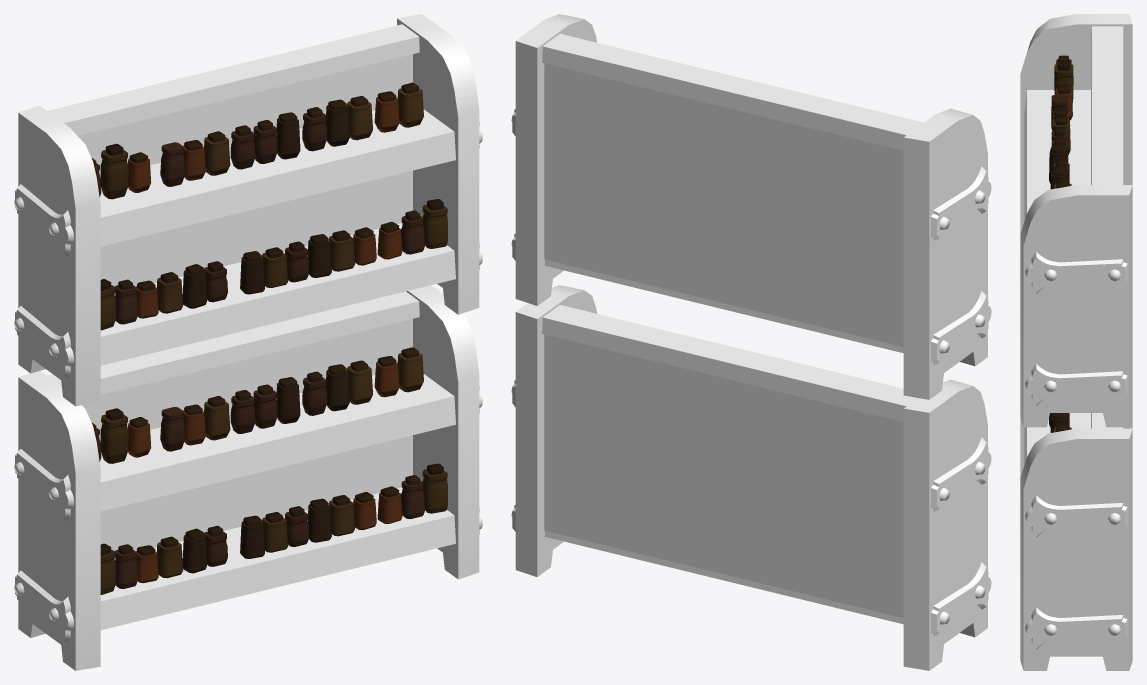
The model's file is bar_shelf_bottles.glb.
3 views of the same model, side by side, from view 1: azimuth 30°, elevation 25°; view 2: azimuth 150°, elevation 25°; view 3: azimuth 270°, elevation 25° (orthographic). The views are drawn at different scales.
Parts seen in each view (by area): view 1: Cube166_2 (×2), Cube166 (×2), Cube166_1 (×2); view 2: Cube166_2 (×2), Cube166_1 (×2); view 3: Cube166_2 (×2), Cube166_1 (×2), Cube166 (×2).
Boxes of the visible parts, bbox=[...] form: Cube166_2 (×2): bbox=[18, 14, 479, 670]; Cube166 (×2): bbox=[91, 82, 447, 594]; Cube166_1 (×2): bbox=[14, 121, 482, 642]; Cube166_2 (×2): bbox=[515, 14, 987, 670]; Cube166_1 (×2): bbox=[511, 109, 991, 636]; Cube166_2 (×2): bbox=[1020, 14, 1132, 670]; Cube166_1 (×2): bbox=[1025, 251, 1127, 649]; Cube166 (×2): bbox=[1049, 55, 1073, 432].
Bounding box in the file's own units: 1.14 × 1.33 × 0.2846.
